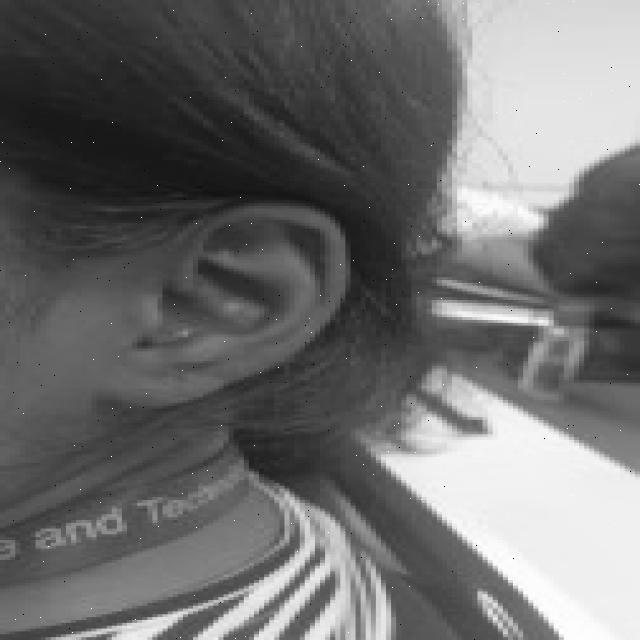ear: (107, 200, 340, 406)
